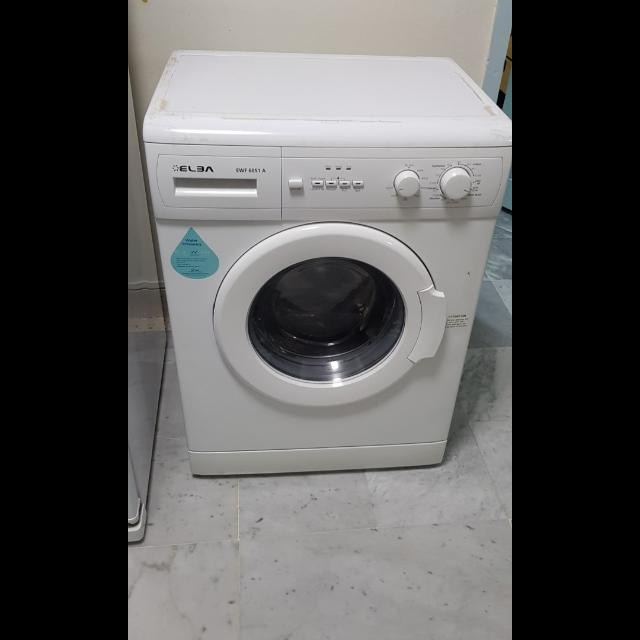Washing-Machine: (149, 52, 503, 470)
